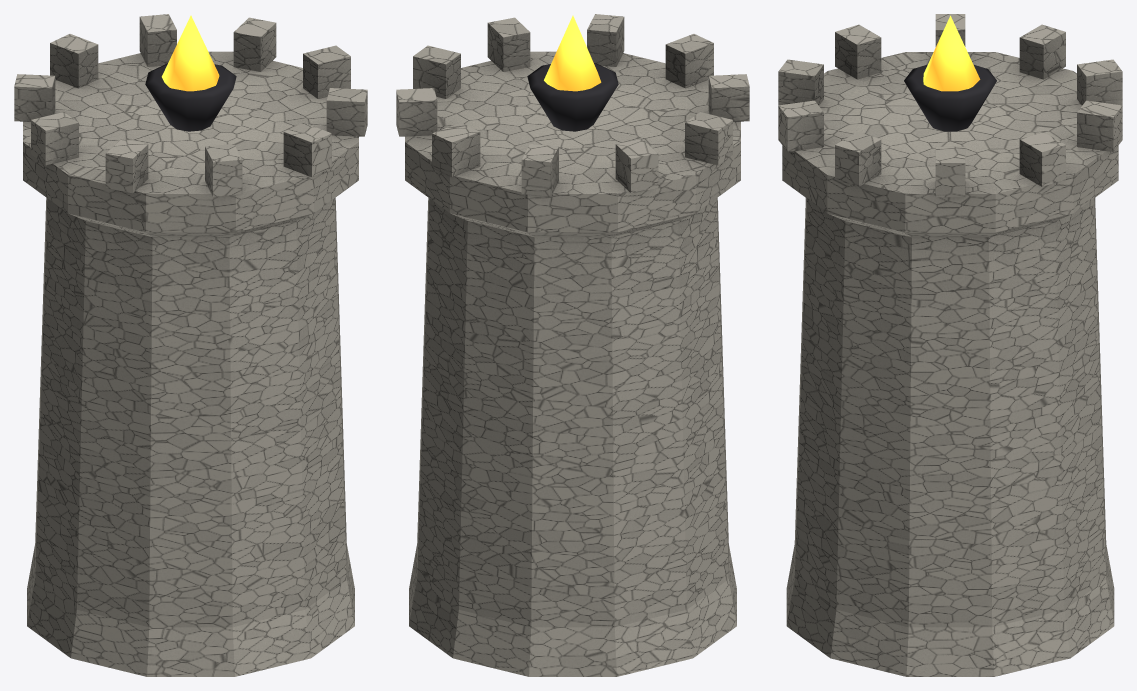
The model's file is CitadelTower.glb.
3 renders of one model, left to right at view 1: azimuth 30°, elevation 25°; view 2: azimuth 150°, elevation 25°; view 3: azimuth 270°, elevation 25°, orthographic.
Parts seen in each view (by area): view 1: CitadelTower, Brazier, Flame; view 2: CitadelTower, Brazier, Flame; view 3: CitadelTower, Brazier, Flame.
Boxes of the visible parts, x1,y1,x2,y2 form: CitadelTower: (14,14,367,676); Brazier: (145,63,236,131); Flame: (161,15,219,91); CitadelTower: (396,14,749,676); Brazier: (527,63,618,131); Flame: (544,15,601,91); CitadelTower: (778,14,1122,676); Brazier: (904,64,996,131); Flame: (923,15,980,91).
Bounding box in the file's own units: 4.15 × 7.7 × 4.06.
3 materials, 1 textured.
